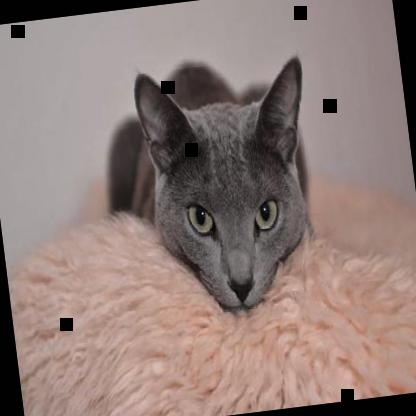cat: (95, 43, 330, 326)
